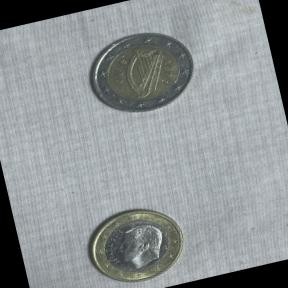coin: (76, 17, 208, 128), (77, 196, 193, 288)
